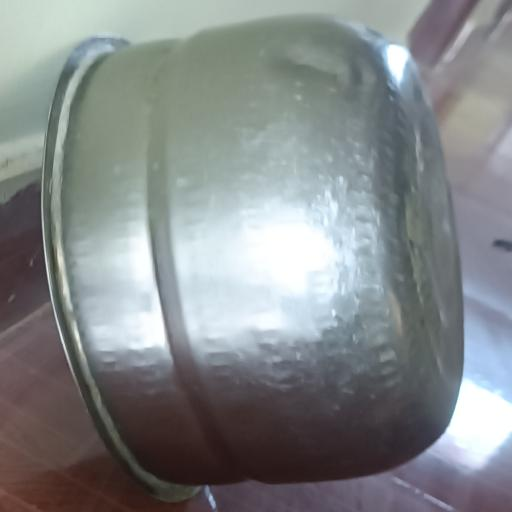vessel: (43, 17, 462, 493)
